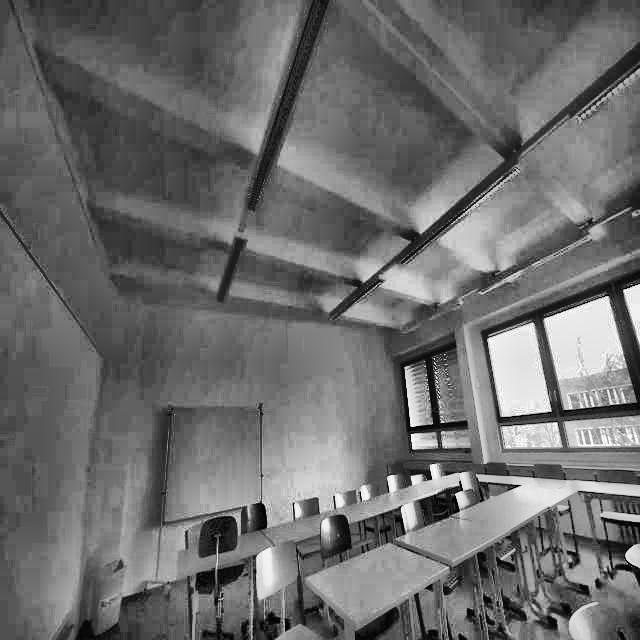ff: (147, 52, 302, 129)
